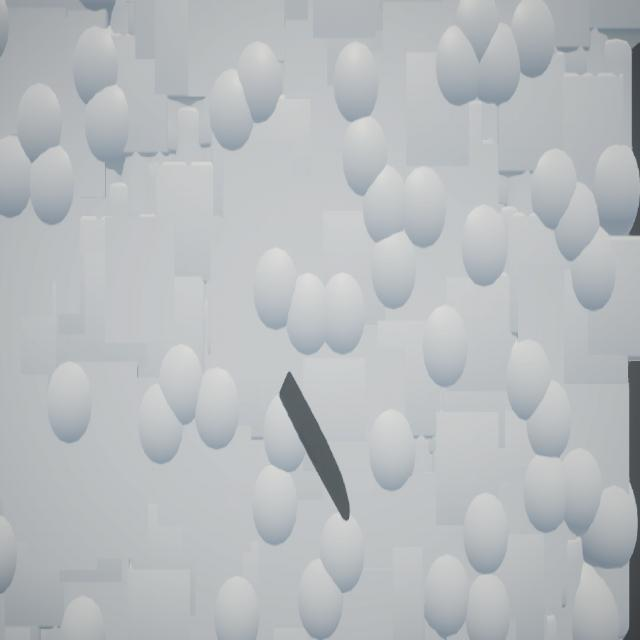top_knife: (280, 372, 351, 523)
